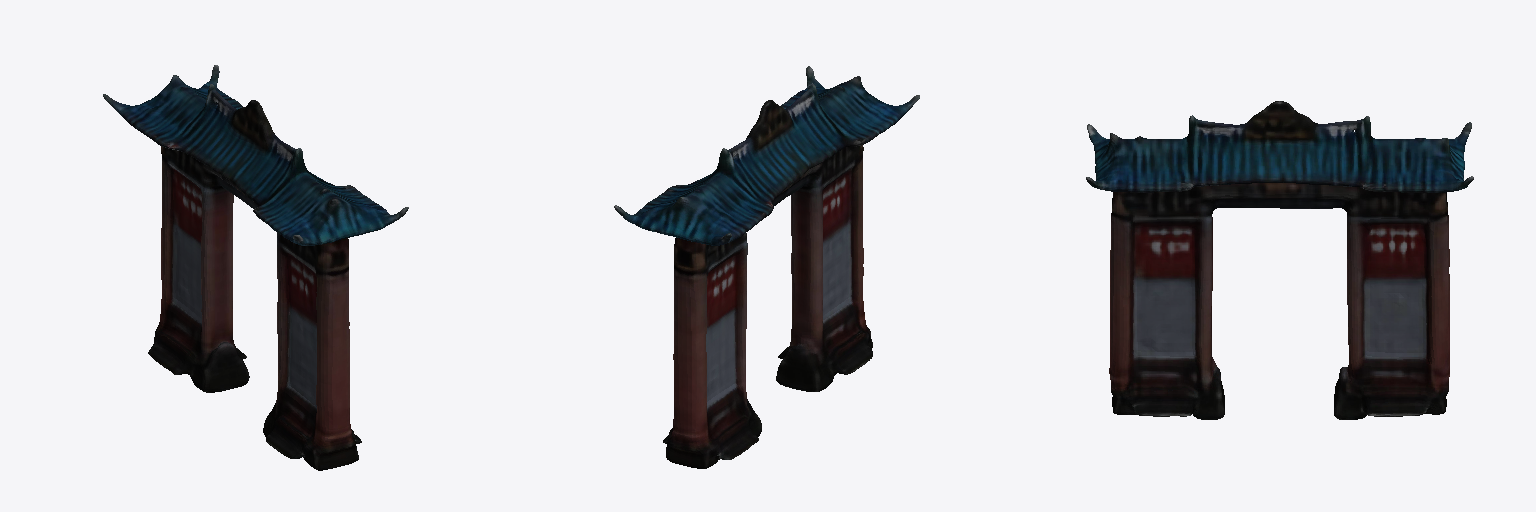
The picture shows the model from 3 angles: view 1: azimuth 30°, elevation 25°; view 2: azimuth 150°, elevation 25°; view 3: azimuth 270°, elevation 25°; orthographic projection.
Visible parts, largest first — view 1: mesh; view 2: mesh; view 3: mesh.
Part boxes in pixels (x1,y1,x2,y2): mesh: (103,65,408,470); mesh: (614,66,919,468); mesh: (1086,101,1473,419).
Bounding box in the file's own units: 0.3427 × 0.8777 × 0.9952.
Materials: 1 (1 with a texture image).